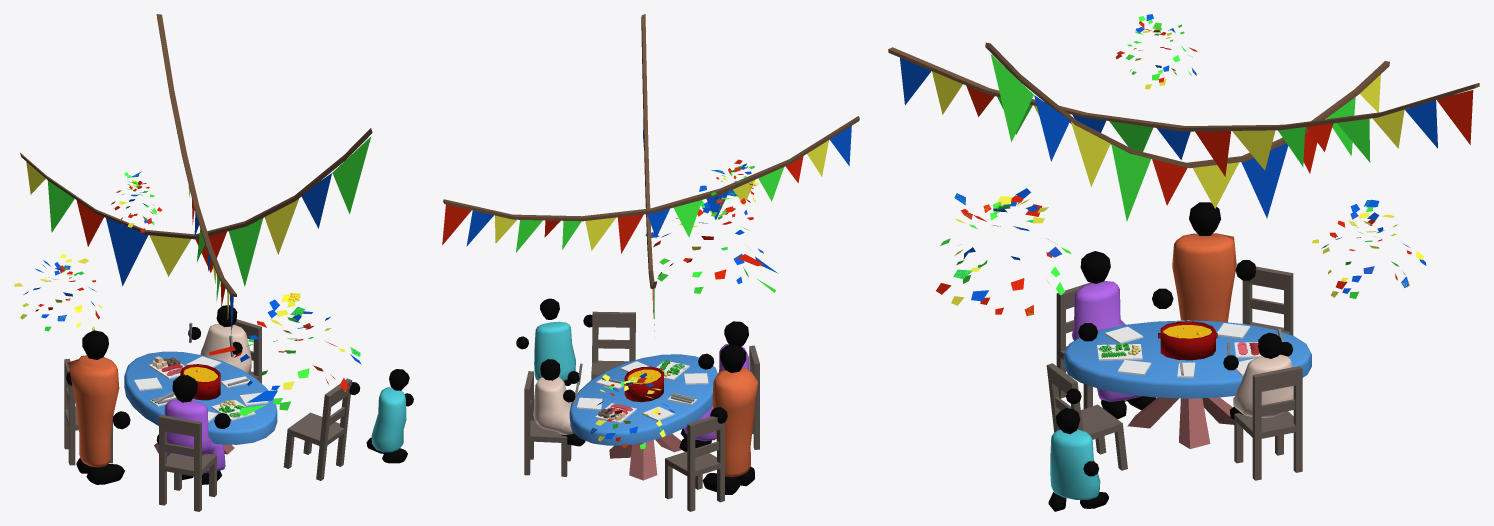
File: family-celebration.glb
The picture shows the model from 3 angles, left to right: view 1: azimuth 30°, elevation 25°; view 2: azimuth 150°, elevation 25°; view 3: azimuth 270°, elevation 25°; orthographic projection. The views are drawn at different scales.
Visible parts, largest first — view 1: flags, chairs, table-cloth, torso-1, Ropes, confetto, heads, torso-3, torso-2, plates, torso-4, feet (+2 smaller); view 2: chairs, table-cloth, flags, Ropes, torso-1, confetto, torso-3, heads, torso-4, plates, table-legs, feet (+2 smaller); view 3: flags, chairs, table-cloth, Ropes, torso-1, confetto, torso-3, table-legs, heads, torso-2, plates, torso-4 (+3 smaller).
Boxes of the visible parts, x1,y1,x2,y2 form: flags: (26, 132, 371, 334); chairs: (64, 319, 352, 511); table-cloth: (124, 351, 277, 444); torso-1: (68, 355, 119, 467); Ropes: (20, 14, 372, 296); confetto: (14, 171, 361, 415); heads: (82, 305, 409, 402); torso-3: (371, 387, 406, 452); torso-2: (164, 399, 225, 472); plates: (134, 356, 268, 422); torso-4: (200, 324, 251, 373); feet: (76, 437, 407, 484); chairs: (524, 311, 759, 511); table-cloth: (569, 354, 717, 445); flags: (442, 124, 851, 331); Ropes: (443, 14, 859, 288); torso-1: (712, 367, 757, 477); confetto: (589, 159, 777, 449); torso-3: (534, 321, 575, 380); heads: (540, 298, 748, 380); torso-4: (533, 377, 573, 434); plates: (577, 361, 708, 423); table-legs: (609, 434, 681, 480); feet: (561, 379, 754, 494); flags: (900, 54, 1473, 221); chairs: (1046, 266, 1302, 480); table-cloth: (1063, 320, 1311, 398); Ropes: (888, 42, 1479, 168); torso-1: (1172, 233, 1236, 322); confetto: (936, 14, 1426, 316); torso-3: (1050, 429, 1100, 499); table-legs: (1127, 397, 1234, 448); heads: (1056, 202, 1282, 434); torso-2: (1072, 281, 1141, 401); plates: (1097, 321, 1262, 377); torso-4: (1233, 354, 1293, 417).
Size of the model in its own units: 11.44 by 14.02 by 17.15.
20 materials, 1 textured.
